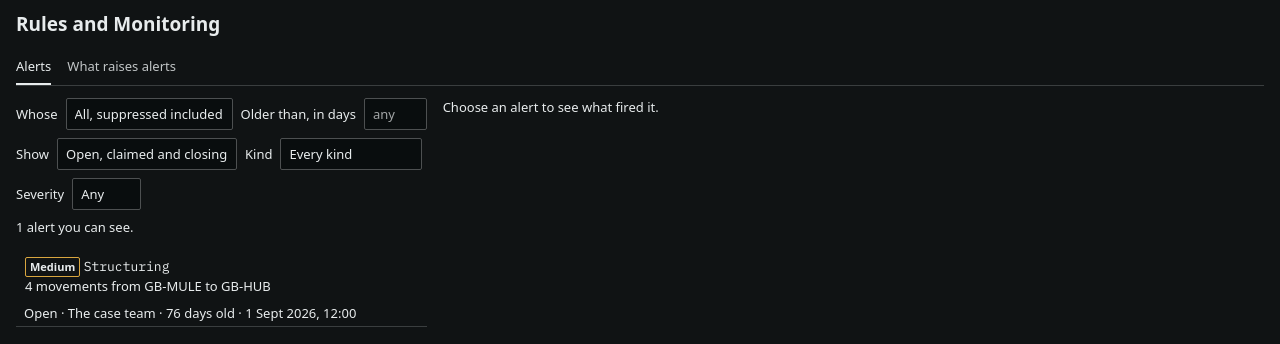
Test: the Alerts place › offers no triage to a Viewer
Step 1. Click the button named "Open alert" → (221, 276), box [16,248,427,304]
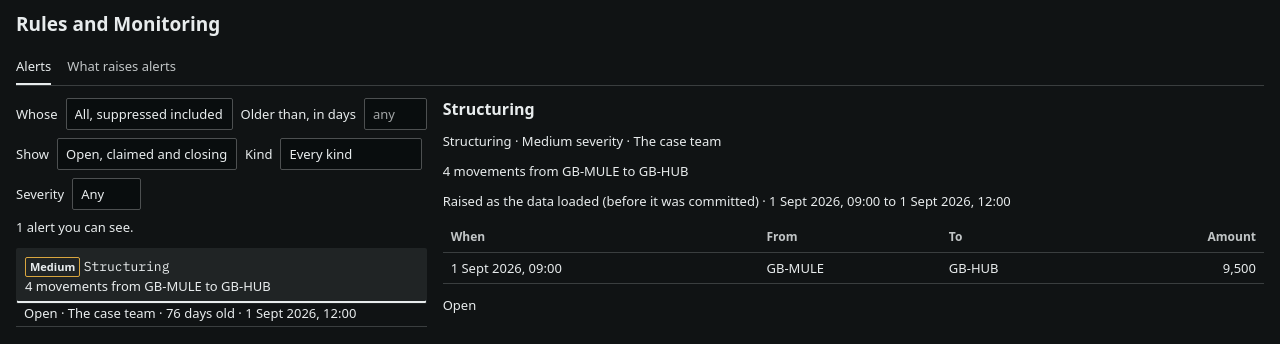
Check: the table named "Transactions this alert cites" is shown, box [443,222,1264,284]
